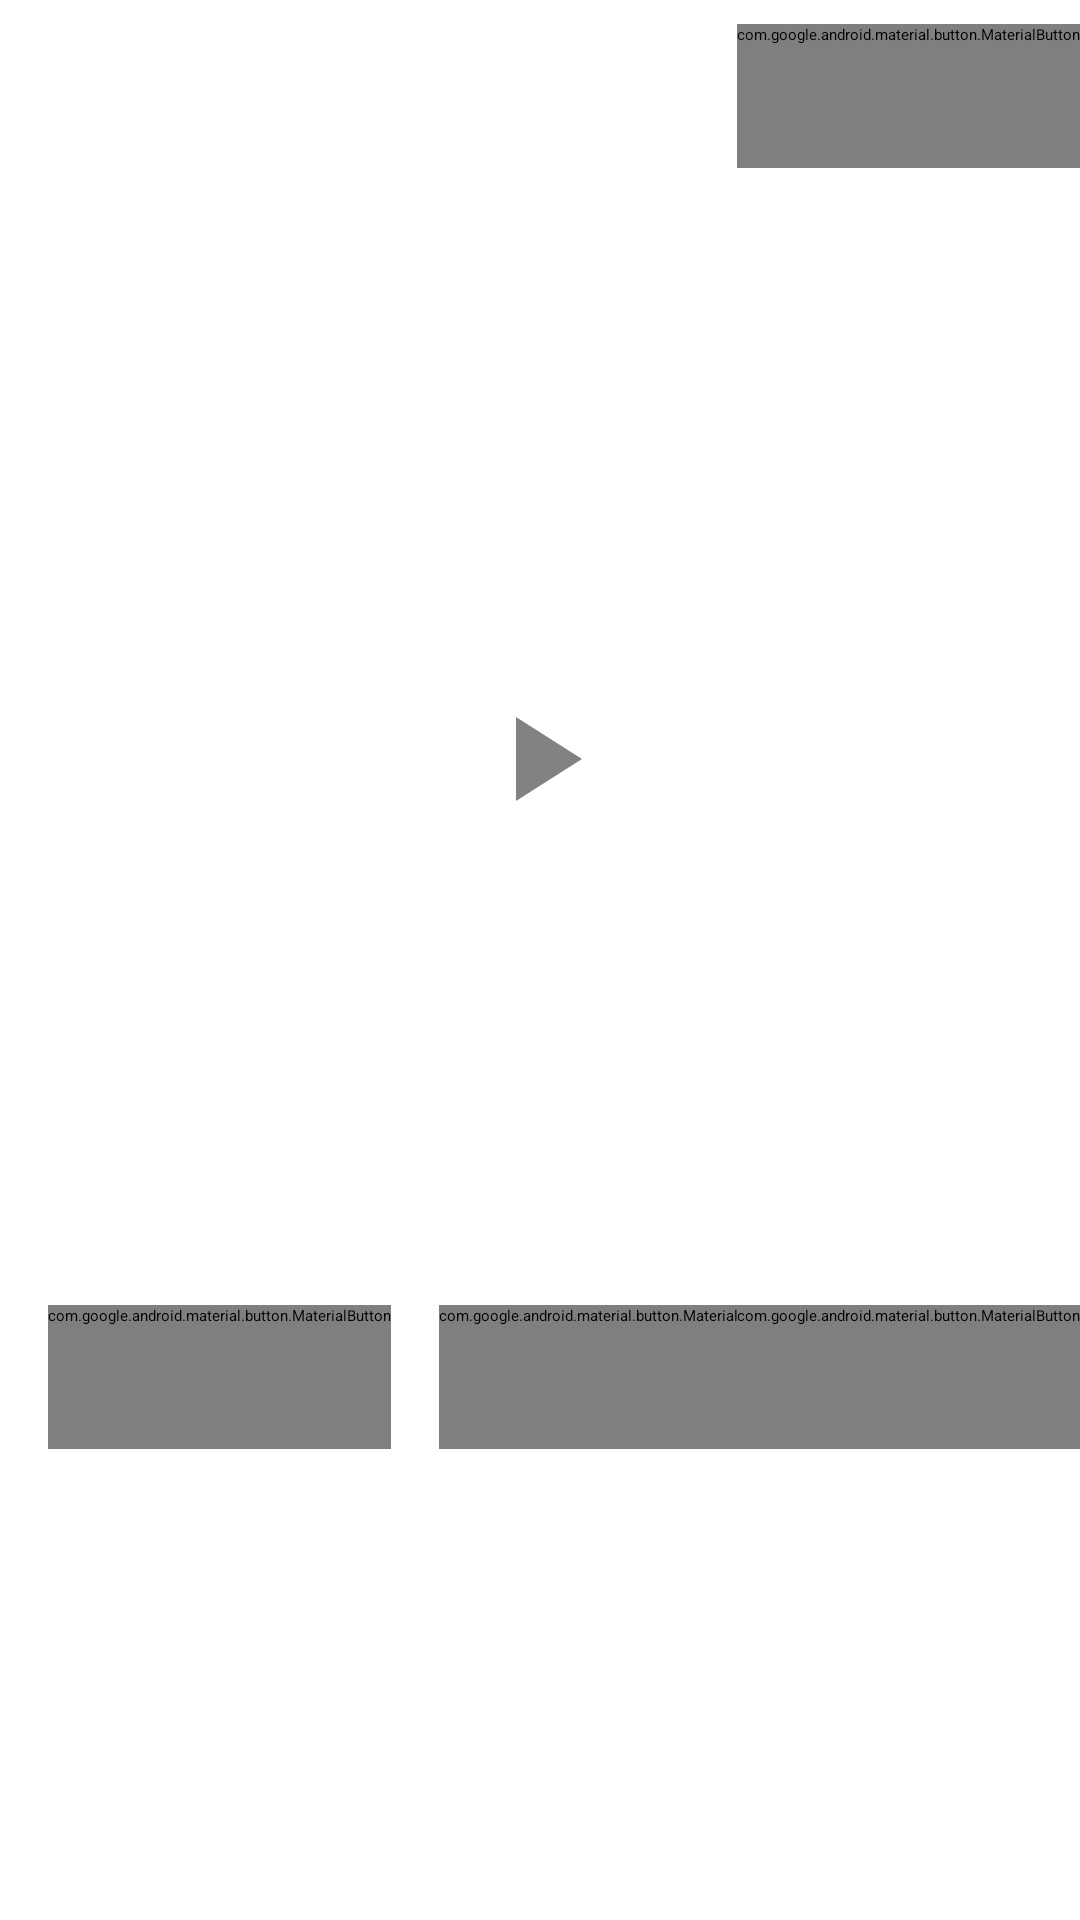

Screen size 1080 × 1920. Icon name, then its center in pixels as [x,y]:
Кнопка воспроизведения видео: [549,759]
